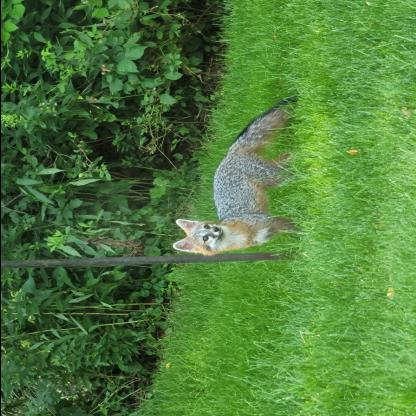zorro: (165, 92, 309, 257)
